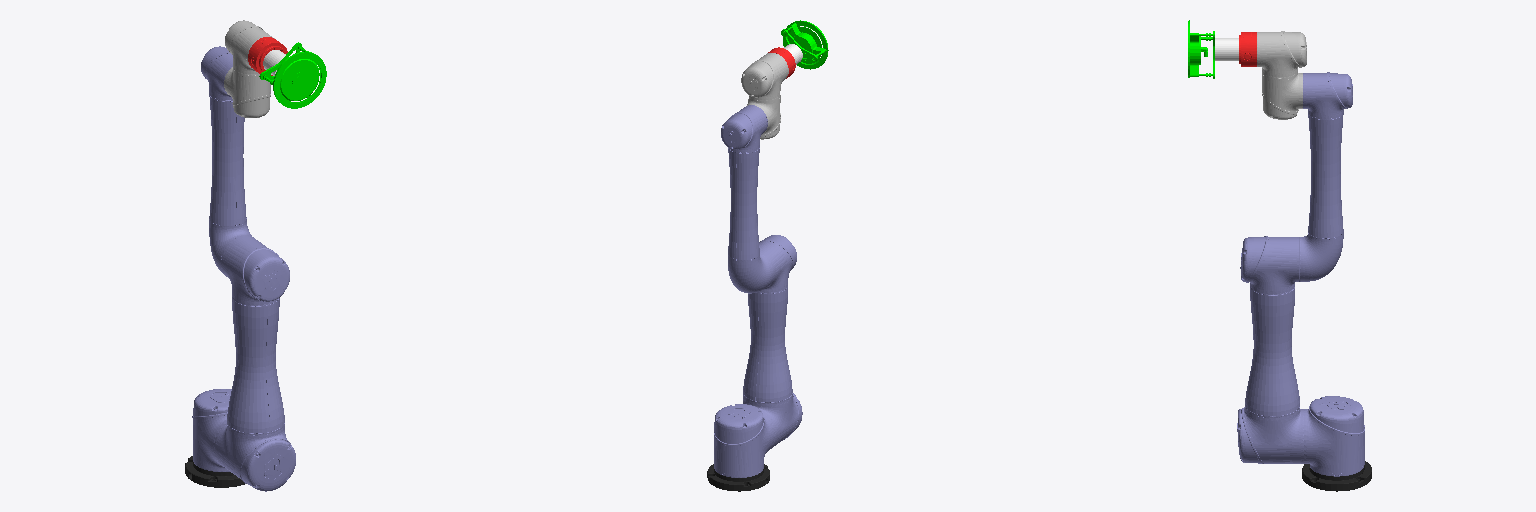
URDF robot description (robot_ec66):
<?xml version="1.0" encoding="utf-8"?>
<robot name="robot_ec66">

  <!-- ===================== 机械臂本体（完全不变，100%保留你原来的参数） ===================== -->
  <link name="base_link">

    <visual>
      <origin xyz="0 0 0" rpy="0 0 0" />
      <geometry>
        <mesh filename="package://robot_ec66/meshes/base_link.stl" />
      </geometry>
      <material name="">
        <color rgba="0.2 0.2 0.2 1" />
      </material>
    </visual>
    <collision>
      <origin xyz="0 0 0" rpy="0 0 0" />
      <geometry>
        <mesh filename="package://robot_ec66/meshes/base_link.stl" />
      </geometry>
    </collision>
  </link>

  <link name="shoulder_link">
    <inertial>
      <origin xyz="-3.972297370082E-06 -0.00790612657560721 0.00152727314593366" rpy="0 0 0" />
      <mass value="1.75215257304071" />
      <inertia ixx="0.00461795097434262" ixy="-8.0190388976997E-08" ixz="5.67530150749476E-07"
               iyy="0.00427218389560493" iyz="4.04234832072505E-05" izz="0.00358435944556083" />
    </inertial>
    <visual>
      <origin xyz="0 0 0" rpy="0 0 0" />
      <geometry>
        <mesh filename="package://robot_ec66/meshes/shoulder_link.stl" />
      </geometry>
      <material name="">
        <color rgba="0.6 0.6 0.8 1" />
      </material>
    </visual>
    <collision>
      <origin xyz="0 0 0" rpy="0 0 0" />
      <geometry>
        <mesh filename="package://robot_ec66/meshes/shoulder_link.stl" />
      </geometry>
    </collision>
  </link>

  <joint name="shoulder_pan_joint" type="revolute">
    <origin xyz="0 0 0.096" rpy="0 0 0" />
    <parent link="base_link" />
    <child link="shoulder_link" />
    <axis xyz="0 0 -1" />
    <limit lower="-3.14" upper="3.14" effort="80" velocity="1.57" />
  </joint>

  <link name="upper_arm_link">
    <inertial>
      <origin xyz="1.93650531746665E-06 0.177888129133798 0.000935832400226377" rpy="0 0 0" />
      <mass value="4.86499591432479" />
      <inertia ixx="0.0243235352306797" ixy="-8.02884544949512E-08" ixz="-3.65963122823591E-07"
               iyy="0.00864801682600579" iyz="-2.33903102660761E-05" izz="0.0226889312195205" />
    </inertial>
    <visual>
      <origin xyz="0 0 0" rpy="0 0 0" />
      <geometry>
        <mesh filename="package://robot_ec66/meshes/upper_arm_link.stl" />
      </geometry>
      <material name="">
        <color rgba="0.6 0.6 0.8 1" />
      </material>
    </visual>
    <collision>
      <origin xyz="0 0 0" rpy="0 0 0" />
      <geometry>
        <mesh filename="package://robot_ec66/meshes/upper_arm_link.stl" />
      </geometry>
    </collision>
  </link>

  <joint name="shoulder_lift_joint" type="revolute">
    <origin xyz="0 -0.138 0" rpy="1.5708 0 0" />
    <parent link="shoulder_link" />
    <child link="upper_arm_link" />
    <axis xyz="0 0 -1" />
    <limit lower="-1.571" upper="1.571" effort="100" velocity="1.57" />
  </joint>

  <link name="forearm_link">
    <inertial>
      <origin xyz="9.23340816444273E-06 -0.201658967810949 -0.00367509696967195" rpy="0 0 0" />
      <mass value="2.17161619202764" />
      <inertia ixx="0.00964556191756371" ixy="-5.11889508690998E-09" ixz="-2.58598566224402E-07"
               iyy="0.00185513255909822" iyz="0.000129119397021428" izz="0.00937803528134213" />
    </inertial>
    <visual>
      <origin xyz="0 0 0" rpy="0 0 0" />
      <geometry>
        <mesh filename="package://robot_ec66/meshes/forearm_link.stl" />
      </geometry>
      <material name="">
        <color rgba="0.6 0.6 0.8 1" />
      </material>
    </visual>
    <collision>
      <origin xyz="0 0 0" rpy="0 0 0" />
      <geometry>
        <mesh filename="package://robot_ec66/meshes/forearm_link.stl" />
      </geometry>
    </collision>
  </link>

  <joint name="forearm_joint" type="revolute">
    <origin xyz="0 0.418 -0.114" rpy="3.1416 0 0" />
    <parent link="upper_arm_link" />
    <child link="forearm_link" />
    <axis xyz="0 0 1" />
    <limit lower="-2.793" upper="2.793" effort="80" velocity="1.57" />
  </joint>

  <link name="wrist_1_link">
    <inertial>
      <origin xyz="-3.93198295295633E-06 -0.0921874562989627 -0.00191999212439375" rpy="0 0 0" />
      <mass value="0.545719097710208" />
      <inertia ixx="0.000714555359060343" ixy="-2.62621144574288E-09" ixz="-1.0415231865486E-07"
               iyy="0.000653673708361221" iyz="3.55735130398696E-06" izz="0.000472396316900323" />
    </inertial>
    <visual>
      <origin xyz="0 0 0" rpy="0 0 0" />
      <geometry>
        <mesh filename="package://robot_ec66/meshes/wrist_1_link.stl" />
      </geometry>
      <material name="">
        <color rgba="0.8 0.8 0.8 1" />
      </material>
    </visual>
    <collision>
      <origin xyz="0 0 0" rpy="0 0 0" />
      <geometry>
        <mesh filename="package://robot_ec66/meshes/wrist_1_link.stl" />
      </geometry>
    </collision>
  </link>

  <joint name="wrist_1_joint" type="revolute">
    <origin xyz="0 -0.398 0" rpy="1.5708 0 0" />
    <parent link="forearm_link" />
    <child link="wrist_1_link" />
    <axis xyz="0 -1 0" />
    <limit lower="-3.142" upper="3.142" effort="50" velocity="2.094" />
  </joint>

  <link name="wrist_2_link">
    <inertial>
      <origin xyz="3.93197713251883E-06 0.0921874563110145 -0.00191999210448493" rpy="0 0 0" />
      <mass value="0.545719097440401" />
      <inertia ixx="0.000714555358428222" ixy="-2.62630519276578E-09" ixz="1.04152182936881E-07"
               iyy="0.000653673707896956" iyz="-3.55735101686746E-06" izz="0.000472396316900323" />
    </inertial>
    <visual>
      <origin xyz="0 0 0" rpy="0 0 0" />
      <geometry>
        <mesh filename="package://robot_ec66/meshes/wrist_2_link.stl" />
      </geometry>
      <material name="">
        <color rgba="0.8 0.8 0.8 1" />
      </material>
    </visual>
    <collision>
      <origin xyz="0 0 0" rpy="0 0 0" />
      <geometry>
        <mesh filename="package://robot_ec66/meshes/wrist_2_link.stl" />
      </geometry>
    </collision>
  </link>

  <joint name="wrist_2_joint" type="revolute">
    <origin xyz="0 -0.098 0" rpy="1.5708 0 0" />
    <parent link="wrist_1_link" />
    <child link="wrist_2_link" />
    <axis xyz="0 1 0" />
    <limit lower="-1.571" upper="1.571" effort="50" velocity="2.094" />
  </joint>

  <link name="wrist_3_link">
    <inertial>
      <origin xyz="3.43500555402778E-08 0.067830997521605 2.61060745936348E-05" rpy="0 0 0" />
      <mass value="0.164877952477342" />
      <inertia ixx="7.7866060664995E-05" ixy="8.16091171835157E-11" ixz="7.91937125052819E-10"
               iyy="0.000117441276807575" iyz="-7.83174107051918E-08" izz="7.75733621912535E-05" />
    </inertial>
    <visual>
      <origin xyz="0 0 0" rpy="0 0 0" />
      <geometry>
        <mesh filename="package://robot_ec66/meshes/wrist_3_link.stl" />
      </geometry>
      <material name="">
        <color rgba="1.0 0.2 0.2 1" />
      </material>
    </visual>
    <collision>
      <origin xyz="0 0 0" rpy="0 0 0" />
      <geometry>
        <mesh filename="package://robot_ec66/meshes/wrist_3_link.stl" />
      </geometry>
    </collision>
  </link>

  <joint name="wrist_3_joint" type="revolute">
    <origin xyz="0 0.098 0" rpy="1.5708 0 0" />
    <parent link="wrist_2_link" />
    <child link="wrist_3_link" />
    <axis xyz="0 1 0" />
    <limit lower="-6.283" upper="6.283" effort="30" velocity="3.142" />
  </joint>

  <!-- ===================== 吸盘部分（核心修复：link_base+cup_link中心对称+位置100%正确） ===================== -->
  <link name="link_base">
    <inertial>
      <origin xyz="-5.76207681182315E-16 6.66133814775094E-16 -0.0250000000000002" rpy="0 0 0" />
      <mass value="0.098174770424681" />
      <inertia ixx="3.5792885050665E-05" ixy="-1.51709481005838E-36" ixz="4.60603334714609E-22"
               iyy="3.5792885050665E-05" iyz="-6.06271088687215E-21" izz="3.06796157577128E-05" />
    </inertial>
    <visual>
      <!-- 核心修复1：link_base中心对称修复，和cup_link完全一致的改法 -->
      <origin xyz="0 0 0" rpy="3.1416 0 3.1416" />
      <geometry>
        <mesh filename="package://robot_ec66/meshes/link_base.stl" />
      </geometry>
      <material name="link_base_mat">
        <color rgba="1 1 1 1" /> 
      </material>
    </visual>
    <collision>
      <origin xyz="0 0 0" rpy="3.1416 0 3.1416" />
      <geometry>
        <mesh filename="package://robot_ec66/meshes/link_base.stl" />
      </geometry>
    </collision>
  </link>

  <!-- 完全用你SW导出的原始j7关节，不做任何修改 -->
  <joint name="j7" type="fixed">
    <origin xyz="0 0.089 0" rpy="1.5708 0 0" />
    <parent link="wrist_3_link" />
    <child link="link_base" />
    <axis xyz="0 0 0" />
  </joint>

  <link name="cup_link">
    <inertial>
      <origin xyz="3.57421983766674E-05 0.000439440635704447 0.0170415851932638" rpy="0 0 0" />
      <mass value="0.153205468110546" />
      <inertia ixx="0.00012615591813755" ixy="2.34978035393046E-09" ixz="-1.18902892816163E-07"
               iyy="0.000125744916073752" iyz="-2.61800372514106E-06" izz="0.000175916091366397" />
    </inertial>
    <visual>
      <!-- 核心修复2：cup_link恢复正确中心对称+位置，完美贴合link_base -->
      <origin xyz="0 0 0" rpy="3.1416 0 3.1416" />
      <geometry>
        <mesh filename="package://robot_ec66/meshes/cup_link.stl" />
      </geometry>
      <material name="cup_link_mat">
        <color rgba="0 1 0 1" /> <!-- 绿色，区分link_base -->
      </material>
    </visual>
    <collision>
      <origin xyz="0 0 0" rpy="3.1416 0 3.1416" />
      <geometry>
        <mesh filename="package://robot_ec66/meshes/cup_link.stl" />
      </geometry>
    </collision>
  </link>

  <!-- 完全用你SW导出的原始tool0关节，不做任何修改 -->
  <joint name="tool0" type="fixed">
    <origin xyz="0 0 -0.1085" rpy="0 0 0" />
    <parent link="link_base" />
    <child link="cup_link" />
    <axis xyz="0 0 0" />
  </joint>

</robot>

--- What the picture shows (computed from the rendered views, not written in the file) ---
3 views of the same robot in one strip: view 1: azimuth 30°, elevation 25°; view 2: azimuth 150°, elevation 25°; view 3: azimuth 270°, elevation 25° (orthographic).
Model robot_ec66 with 9 links and 8 joints (6 revolute, 2 fixed), rooted at base_link, posed every joint at zero.
Links seen in each view (by area): view 1: upper_arm_link, forearm_link, cup_link, shoulder_link, wrist_1_link, wrist_2_link, base_link, wrist_3_link; view 2: upper_arm_link, forearm_link, shoulder_link, wrist_2_link, cup_link, base_link, wrist_1_link; view 3: upper_arm_link, forearm_link, shoulder_link, wrist_2_link, wrist_1_link, base_link, cup_link, wrist_3_link, link_base.
Boxes of the visible links, left/top/right/bottom form: upper_arm_link: left=214, top=236, right=295, bottom=491; forearm_link: left=201, top=46, right=253, bottom=276; cup_link: left=259, top=42, right=326, bottom=108; shoulder_link: left=192, top=389, right=231, bottom=471; wrist_1_link: left=224, top=67, right=270, bottom=117; wrist_2_link: left=225, top=20, right=274, bottom=73; base_link: left=185, top=456, right=244, bottom=487; wrist_3_link: left=248, top=37, right=287, bottom=75; upper_arm_link: left=743, top=235, right=802, bottom=448; forearm_link: left=721, top=105, right=772, bottom=293; shoulder_link: left=714, top=404, right=774, bottom=477; wrist_2_link: left=741, top=53, right=788, bottom=99; cup_link: left=781, top=20, right=828, bottom=69; base_link: left=707, top=464, right=769, bottom=491; wrist_1_link: left=747, top=95, right=780, bottom=139; upper_arm_link: left=1237, top=236, right=1303, bottom=463; forearm_link: left=1301, top=72, right=1352, bottom=281; shoulder_link: left=1304, top=396, right=1364, bottom=476; wrist_2_link: left=1257, top=31, right=1306, bottom=76; wrist_1_link: left=1262, top=70, right=1302, bottom=119; base_link: left=1302, top=461, right=1371, bottom=491; cup_link: left=1188, top=20, right=1214, bottom=78; wrist_3_link: left=1239, top=32, right=1256, bottom=66; link_base: left=1215, top=38, right=1238, bottom=60.
Size in the robot's own frame: 0.15 by 0.3945 by 1.07 metres.
9 mesh visuals loaded from 9 distinct referenced files (9 binary STL).
